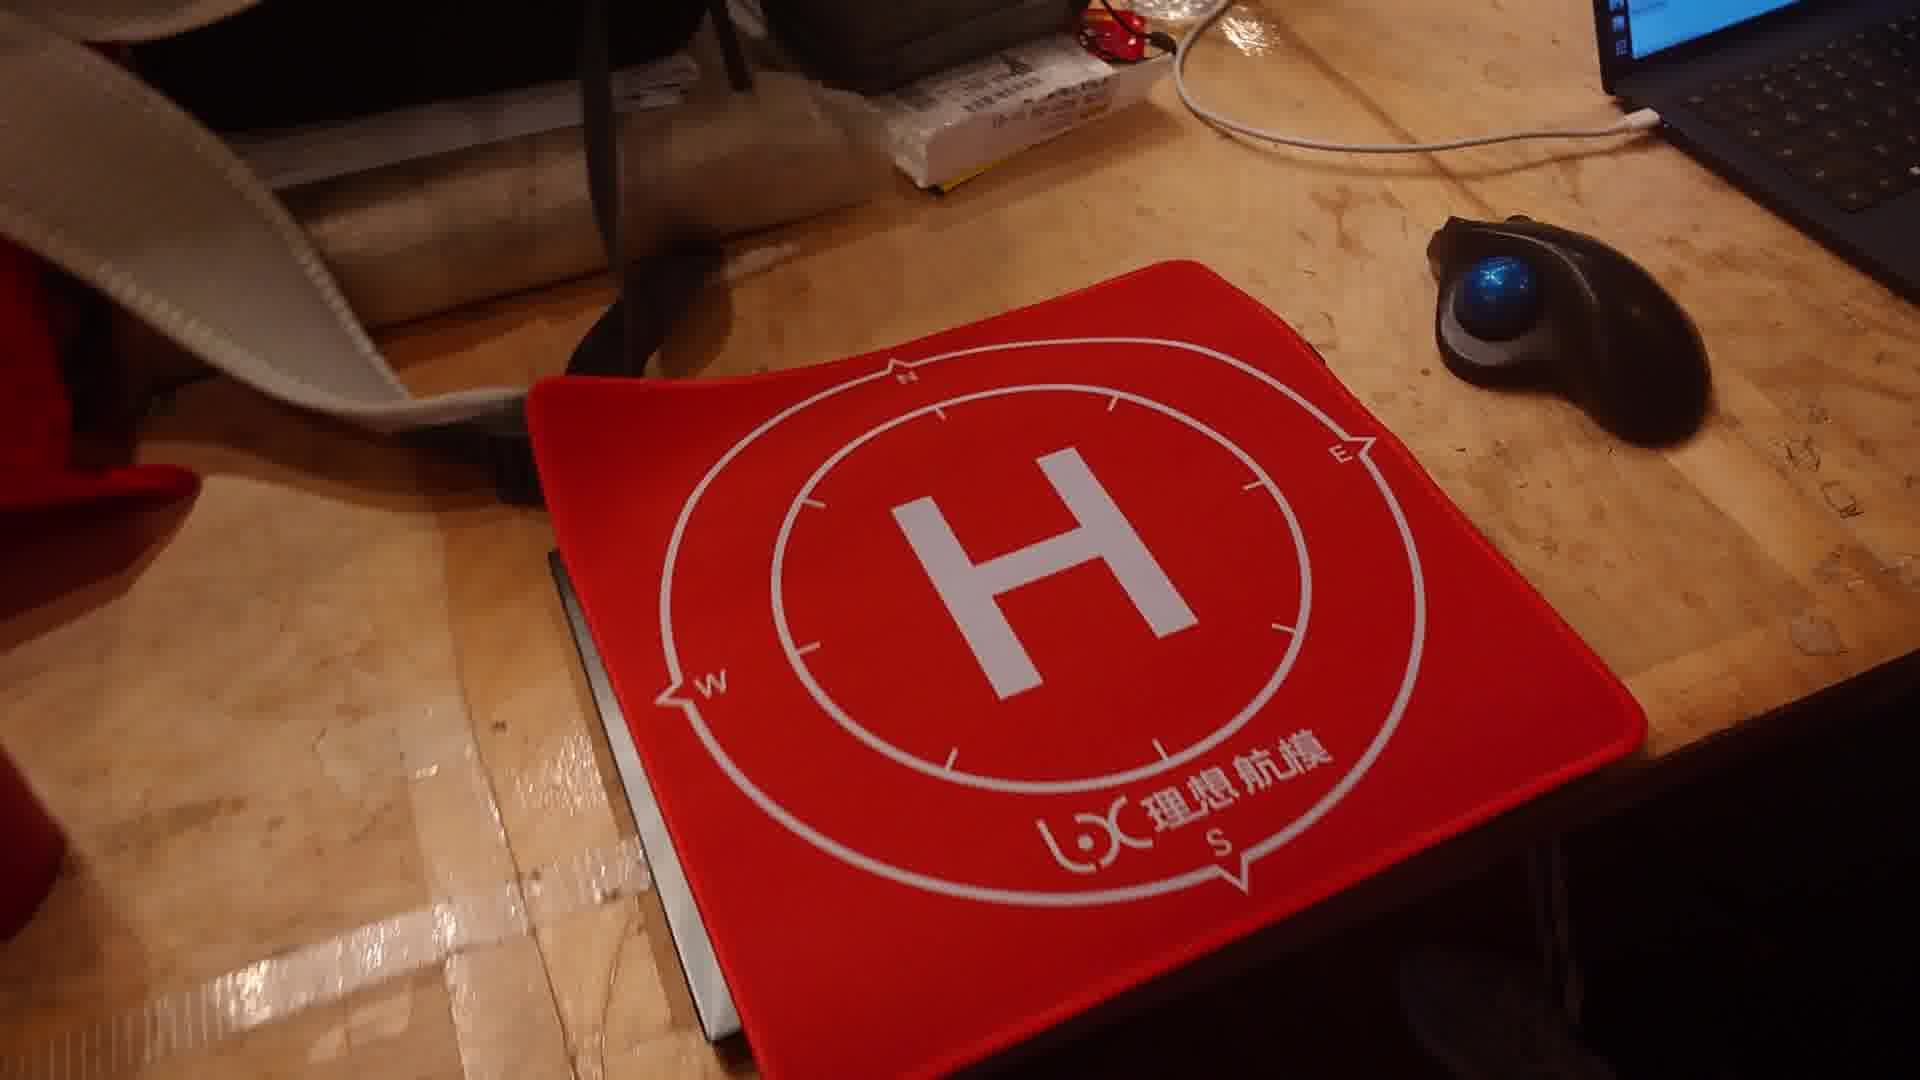H: (887, 442, 1201, 707)
